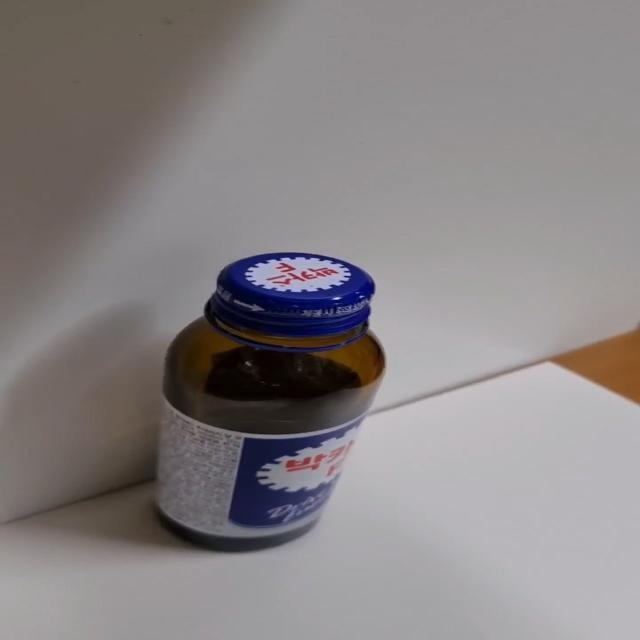Glass: (153, 252, 388, 554)
